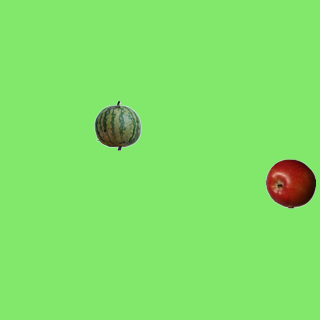Apple Braeburn: (265, 158, 315, 208)
Watermelon: (92, 100, 142, 150)
